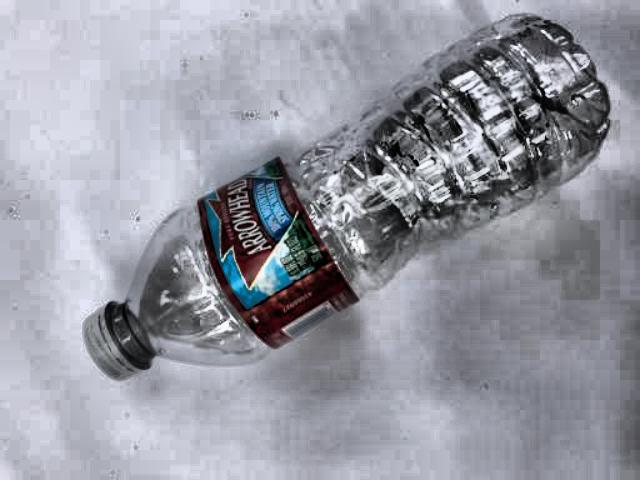Bottles: (40, 8, 639, 376)
